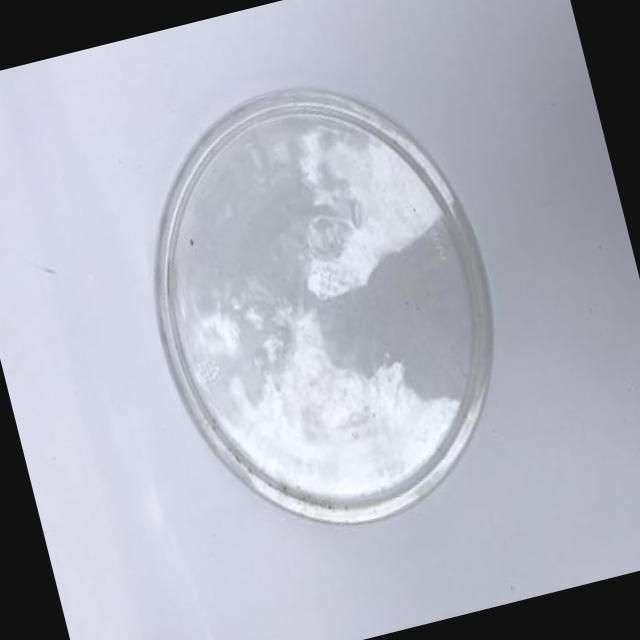Recycle: (108, 55, 537, 557)
